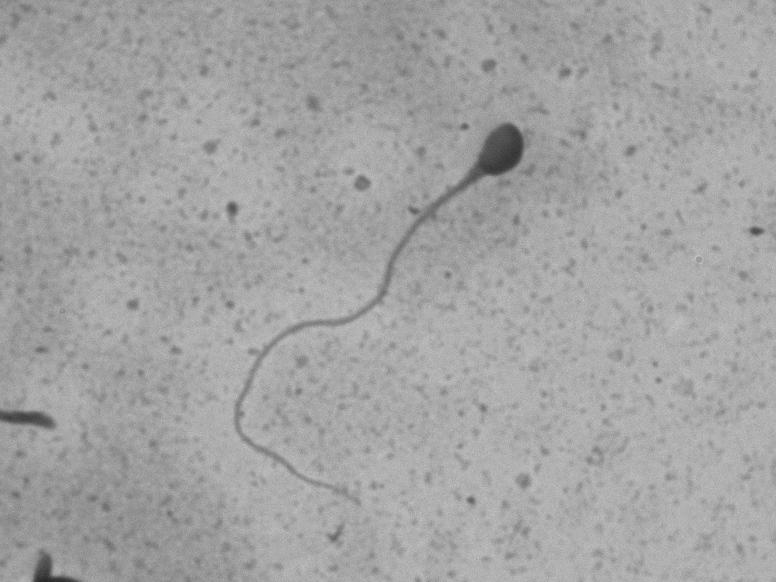Abnormal: (191, 102, 555, 516)
